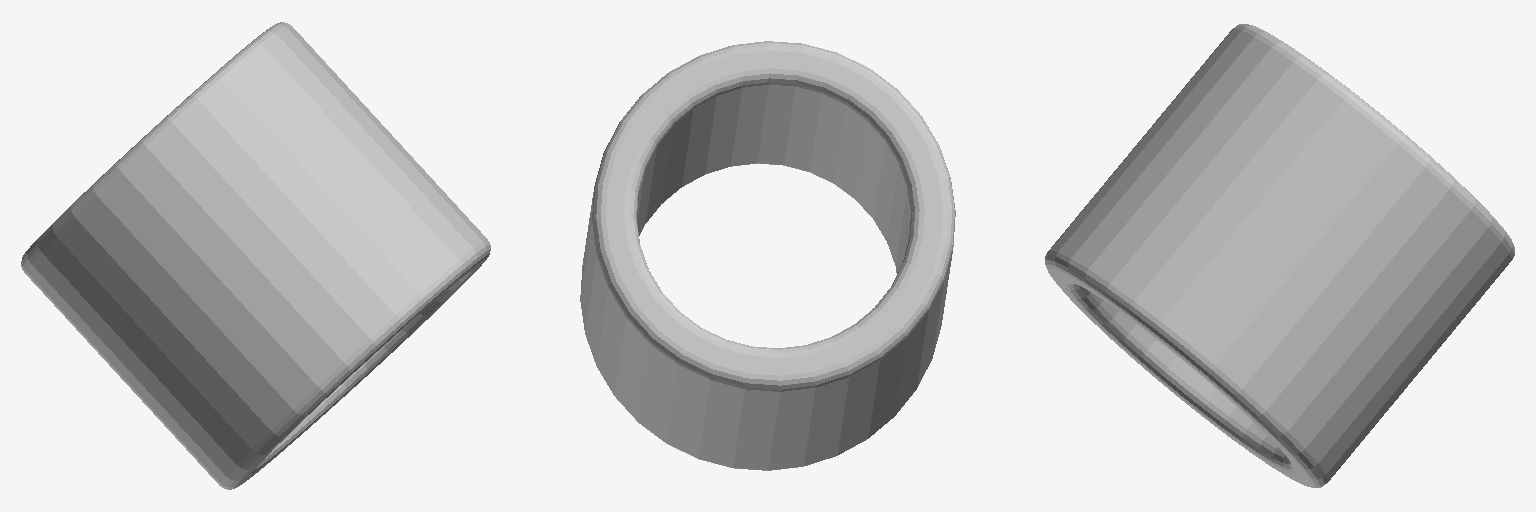
Rendered from tube_blue.obj.
3 views of the same model, side by side, from view 1: azimuth 30°, elevation 25°; view 2: azimuth 150°, elevation 25°; view 3: azimuth 270°, elevation 25° (orthographic).
Parts seen in each view (by area): view 1: 000_Tube; view 2: 000_Tube; view 3: 000_Tube.
Part boxes in pixels (x1,y1,x2,y2): 000_Tube: (21, 22, 490, 489); 000_Tube: (580, 41, 955, 470); 000_Tube: (1045, 24, 1514, 487).
Size of the model in its own units: 161 by 167 by 167.